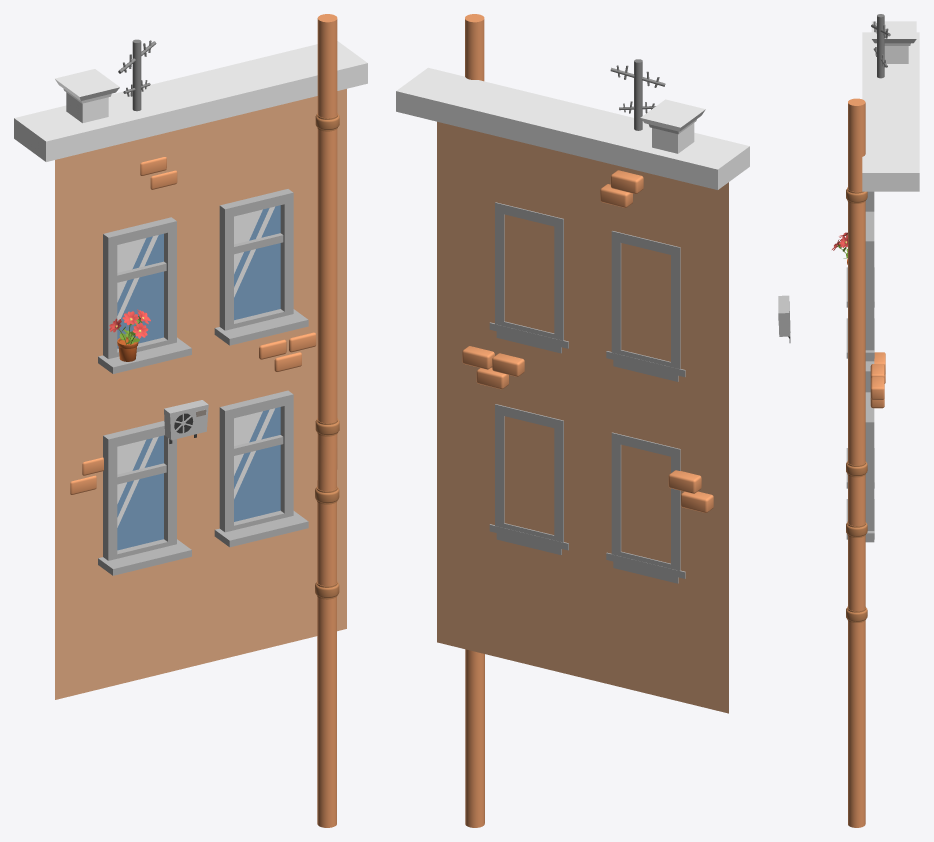
Rendered from level4.fbx.
The picture shows the model from 3 angles, left to right: view 1: azimuth 30°, elevation 25°; view 2: azimuth 150°, elevation 25°; view 3: azimuth 270°, elevation 25°; orthographic projection. The views are drawn at different scales.
Parts seen in each view (by area): view 1: Plane.001, Cylinder.002, Cube.011, WA_window.005, WA_window.003, WA_window.004, WA_window.002, house1.003, house1.001, WA_flowers.001, house1.002; view 2: Plane.001, Cube.011, Cylinder.002, WA_window.002, WA_window.003, WA_window.005, WA_window.004, house1.003, house1.002; view 3: Cylinder.002, Cube.011, WA_window.003, WA_window.005, house1.003, house1.002, house1.001, Cube.005, WA_window.002, WA_window.004.
Part boxes in pixels (bbox=[...]): Plane.001: bbox=[55, 89, 346, 699]; Cylinder.002: bbox=[315, 14, 339, 827]; Cube.011: bbox=[14, 41, 367, 161]; WA_window.005: bbox=[214, 390, 308, 547]; WA_window.003: bbox=[214, 189, 308, 345]; WA_window.004: bbox=[98, 421, 191, 575]; WA_window.002: bbox=[98, 217, 191, 373]; house1.003: bbox=[55, 69, 119, 123]; house1.001: bbox=[164, 400, 208, 443]; WA_flowers.001: bbox=[109, 309, 150, 361]; house1.002: bbox=[118, 39, 156, 111]; Plane.001: bbox=[437, 121, 728, 713]; Cube.011: bbox=[396, 67, 749, 189]; Cylinder.002: bbox=[465, 14, 484, 827]; WA_window.002: bbox=[606, 231, 685, 381]; WA_window.003: bbox=[489, 202, 568, 353]; WA_window.005: bbox=[489, 404, 568, 554]; WA_window.004: bbox=[606, 432, 685, 583]; house1.003: bbox=[640, 99, 705, 153]; house1.002: bbox=[610, 59, 665, 130]; Cylinder.002: bbox=[846, 98, 867, 827]; Cube.011: bbox=[862, 32, 919, 191]; WA_window.003: bbox=[846, 211, 874, 361]; WA_window.005: bbox=[846, 392, 874, 542]; house1.003: bbox=[871, 21, 916, 63]; house1.002: bbox=[871, 14, 890, 78]; house1.001: bbox=[778, 295, 790, 342]; Cube.005: bbox=[870, 377, 884, 399]; WA_window.002: bbox=[846, 191, 874, 307]; WA_window.004: bbox=[846, 361, 874, 488].
Bounding box in the file's own units: 11.03 × 26.71 × 4.69.
